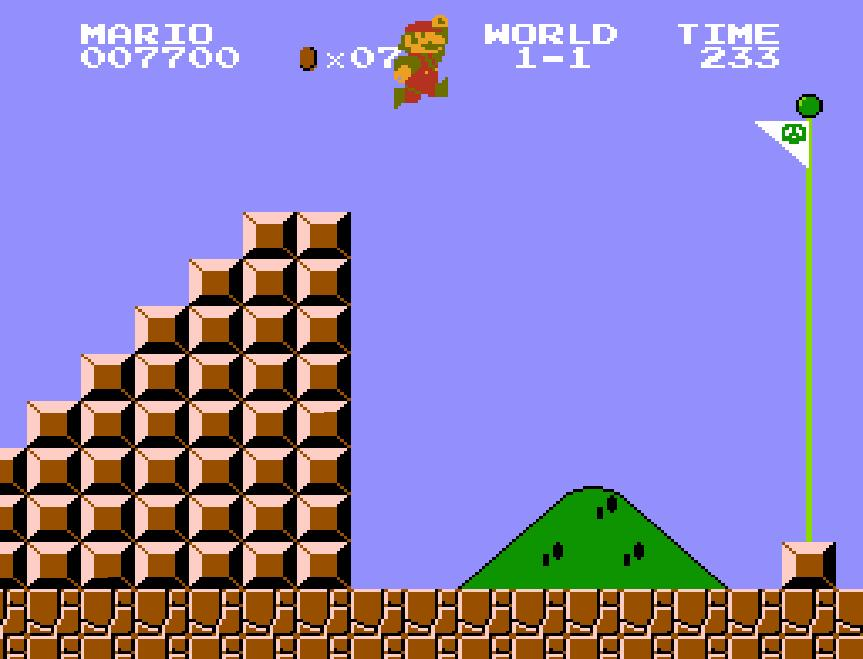big_mario: (392, 11, 450, 109)
